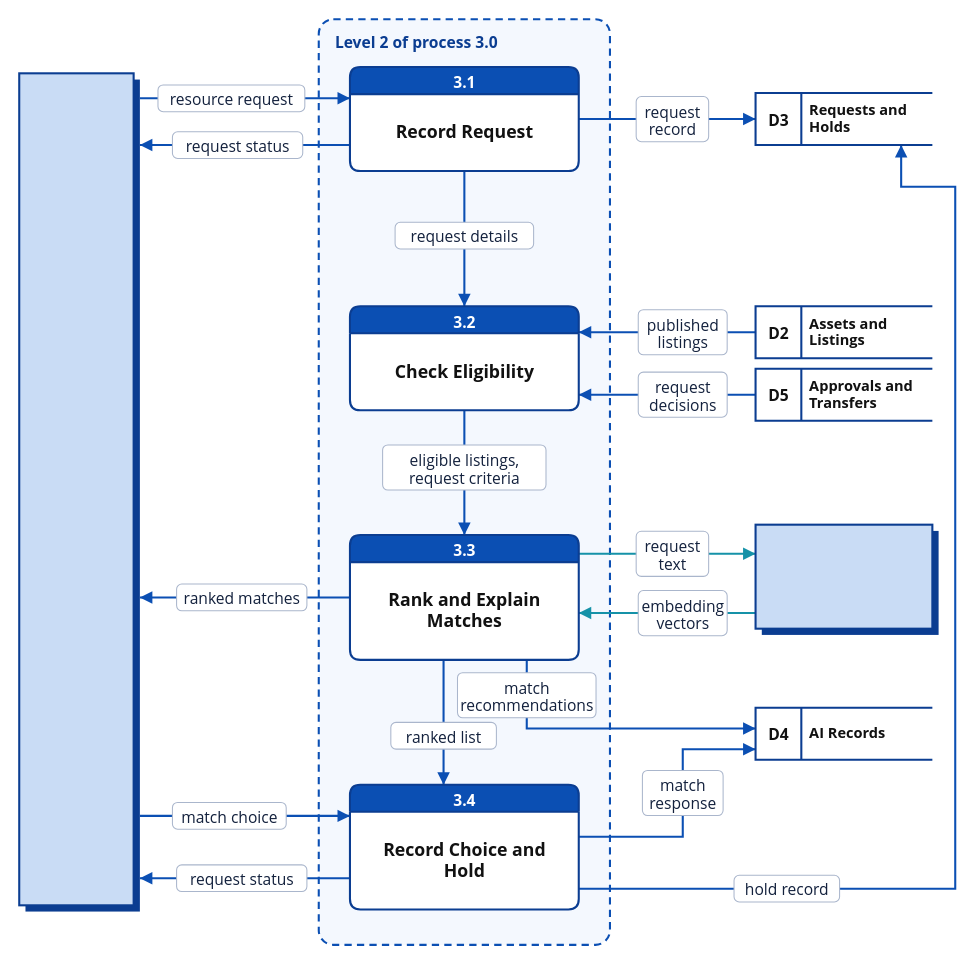
The diagram is 974 pixels wide and 963 high, and some of its shapes have lost their labels. Each missing label, with the centre of its shape:
"AI Provider" goes at (x=843, y=576).
"Requester" goes at (x=76, y=489).
